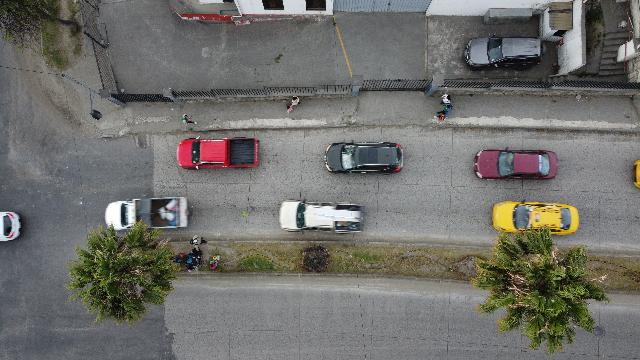Vehiculo: (105, 196, 189, 238), (492, 200, 580, 236), (474, 148, 558, 180), (279, 200, 363, 232), (464, 36, 542, 70), (177, 137, 259, 169), (325, 142, 403, 174), (0, 211, 20, 241)
